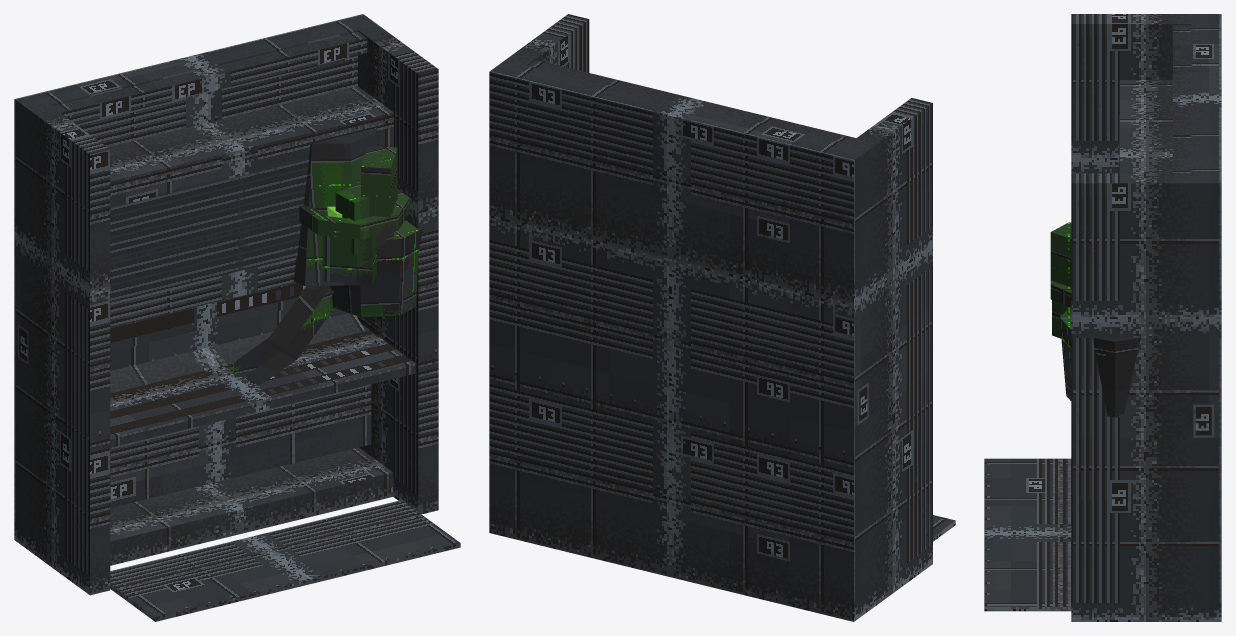
File: eps_state_speaking.glb
The picture shows the model from 3 angles, left to right: view 1: azimuth 30°, elevation 25°; view 2: azimuth 150°, elevation 25°; view 3: azimuth 270°, elevation 25°; orthographic projection. The views are drawn at different scales.
Visible parts, largest first — view 1: eps_state_speaking; view 2: eps_state_speaking; view 3: eps_state_speaking.
Boxes of the visible parts, x1=… form: eps_state_speaking: x1=14, y1=14, x2=460, y2=621; eps_state_speaking: x1=489, y1=14, x2=955, y2=621; eps_state_speaking: x1=984, y1=14, x2=1221, y2=621.
Bounding box in the file's own units: 2.46 × 2.9 × 1.42.
Materials: 5 (4 with a texture image).
